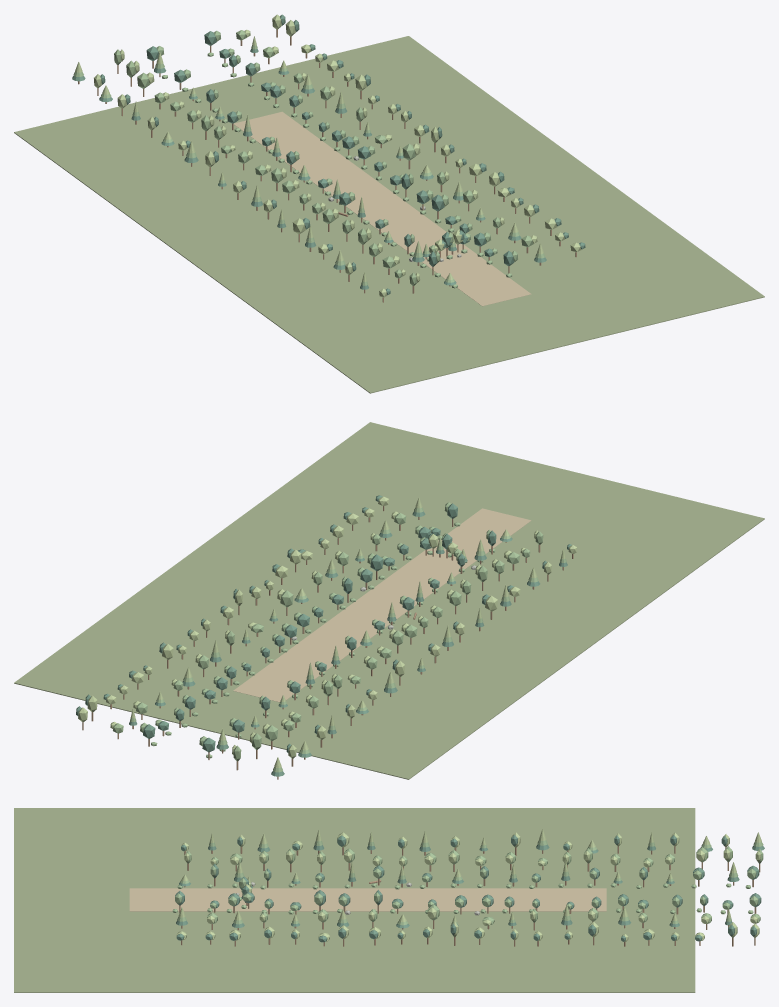
File: forest_day.glb
3 views of the same model, one above another, from view 1: azimuth 30°, elevation 25°; view 2: azimuth 150°, elevation 25°; view 3: azimuth 270°, elevation 25° (orthographic). The views are drawn at different scales.
Visible parts, largest first — view 1: Static.Forest.ground, Static.Trail, Static.Leaf.middle, Static.Leaf.deep, Static.Leaf.light, Static.Wood; view 2: Static.Forest.ground, Static.Trail, Static.Leaf.middle, Static.Leaf.deep, Static.Leaf.light, Static.Wood; view 3: Static.Forest.ground, Static.Trail, Static.Leaf.middle, Static.Leaf.deep, Static.Leaf.light, Static.Wood.
Boxes of the visible parts, bbox=[...] form: Static.Forest.ground: bbox=[14, 36, 764, 393]; Static.Trail: bbox=[234, 111, 531, 306]; Static.Leaf.middle: bbox=[73, 30, 545, 288]; Static.Leaf.deep: bbox=[72, 14, 585, 294]; Static.Leaf.light: bbox=[75, 14, 581, 297]; Static.Wood: bbox=[78, 29, 576, 302]; Static.Forest.ground: bbox=[14, 422, 764, 779]; Static.Trail: bbox=[233, 508, 531, 702]; Static.Leaf.middle: bbox=[113, 502, 566, 772]; Static.Leaf.deep: bbox=[76, 495, 571, 776]; Static.Leaf.light: bbox=[78, 496, 576, 767]; Static.Wood: bbox=[82, 506, 573, 779]; Static.Forest.ground: bbox=[14, 808, 695, 992]; Static.Trail: bbox=[129, 888, 606, 911]; Static.Leaf.middle: bbox=[172, 840, 763, 925]; Static.Leaf.deep: bbox=[175, 834, 764, 942]; Static.Leaf.light: bbox=[176, 829, 761, 941]; Static.Wood: bbox=[179, 846, 760, 946].
Bounding box in the file's own units: 64 × 4.22 × 110.
